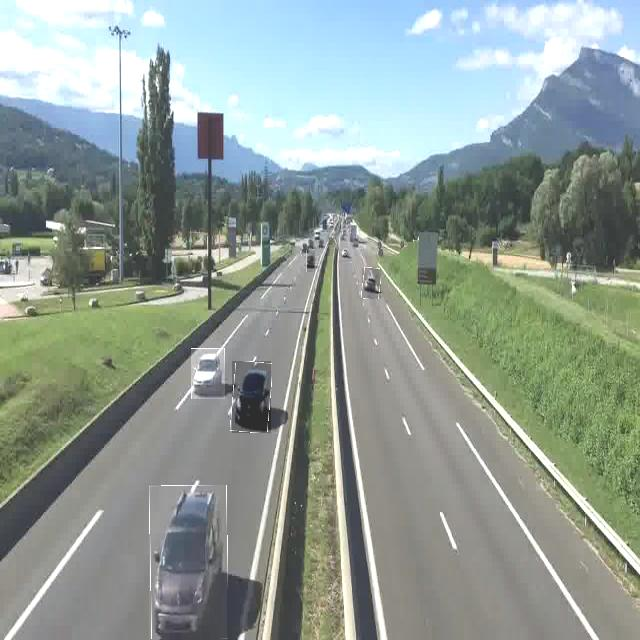Car: (149, 485, 227, 640), (232, 361, 271, 433), (191, 348, 225, 399), (362, 268, 381, 299), (306, 250, 315, 272)
